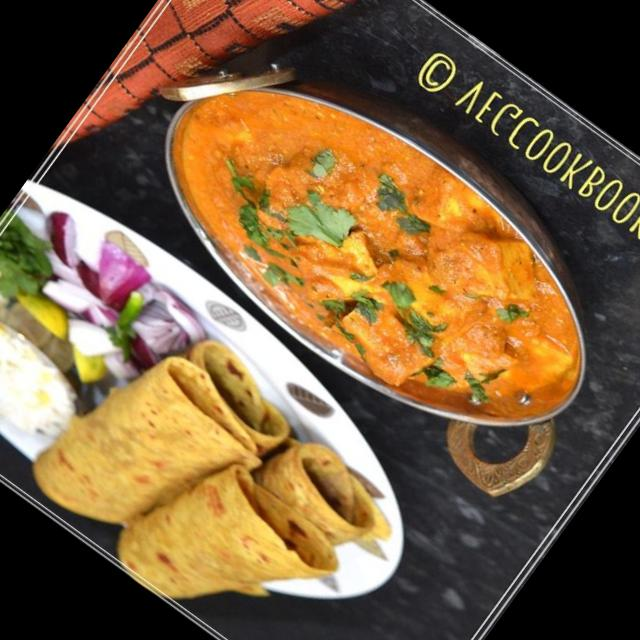rice: (0, 302, 78, 447)
roti: (38, 352, 345, 638)
